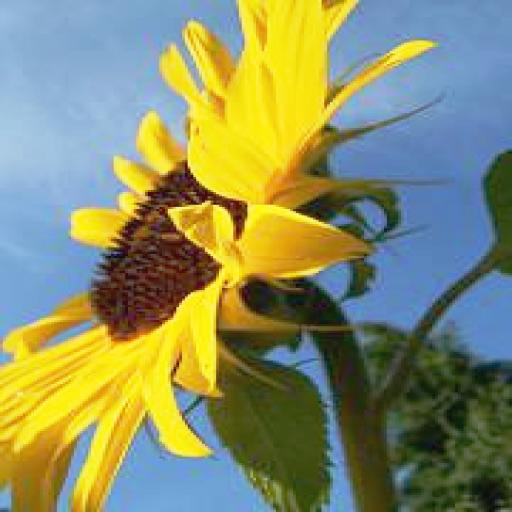sunflower: (6, 4, 510, 510)
